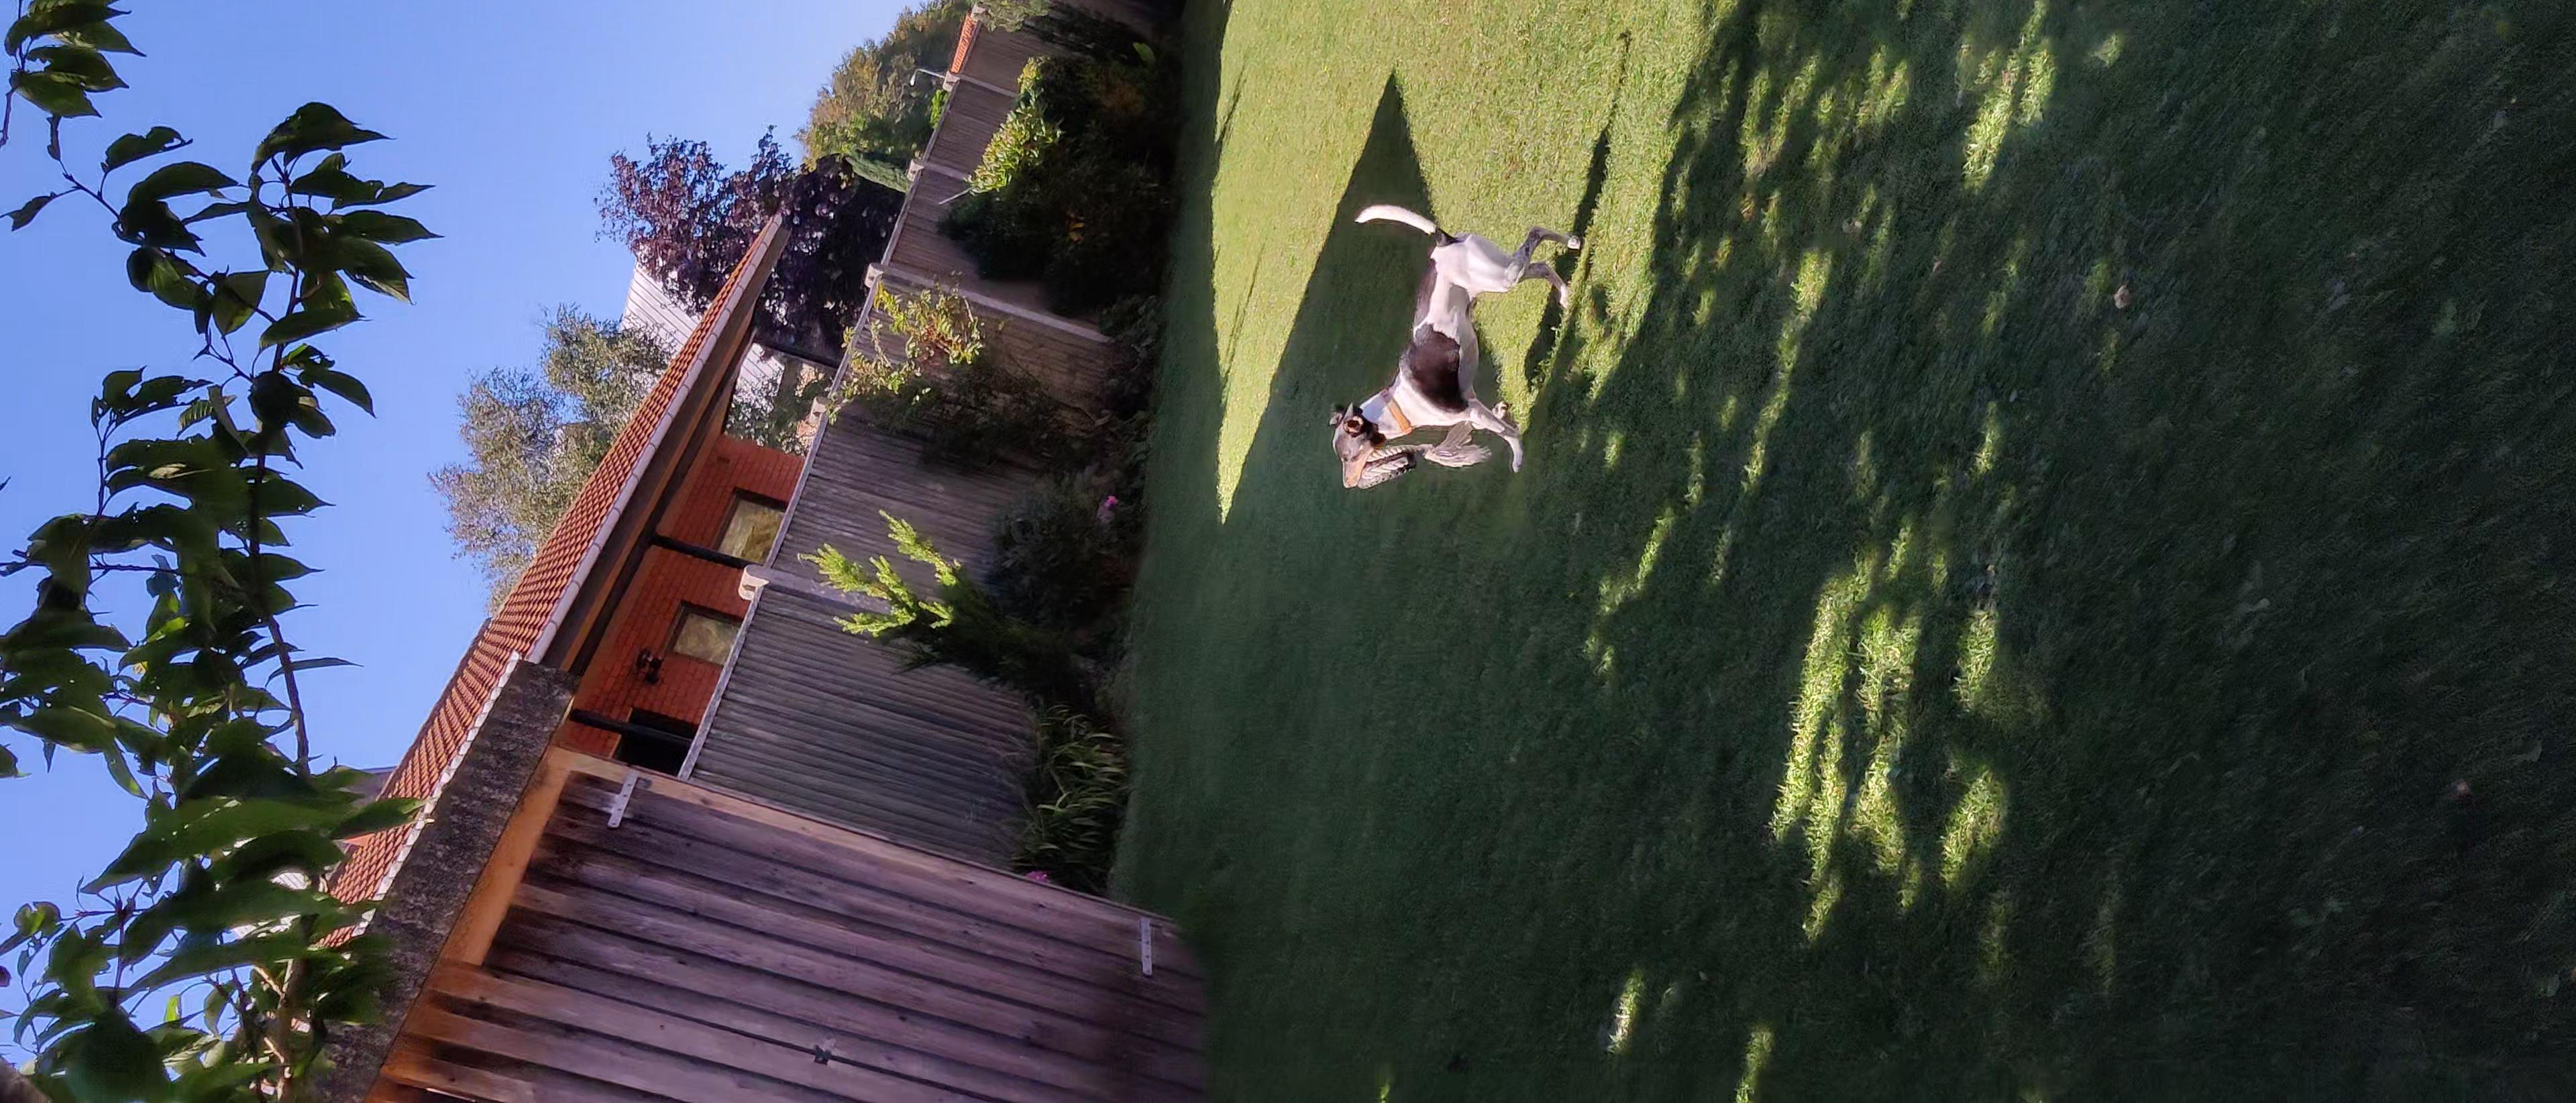Dog: (1288, 197, 1610, 498)
